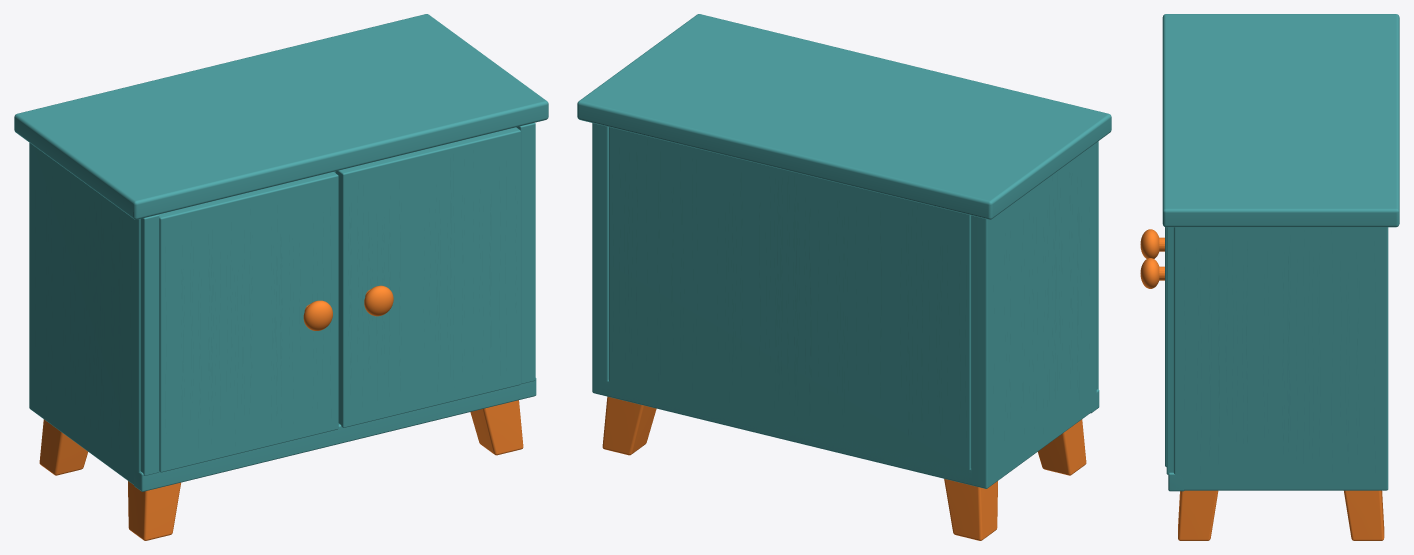
3 views of the same model, side by side, from view 1: azimuth 30°, elevation 25°; view 2: azimuth 150°, elevation 25°; view 3: azimuth 270°, elevation 25° (orthographic). The views are drawn at different scales.
Parts seen in each view (by area): view 1: Overhanging top slab, Right door, Left door, Left solid side, Subtle mesh wood grain, Front lower rail, Left front stile, Right front stile, Left front orange foot, Right front orange foot, Left rear orange foot, Round orange door knob (+1 smaller); view 2: Full teal back panel, Overhanging top slab, Left solid side, Subtle mesh wood grain, Right solid side, Left rear orange foot, Right rear orange foot, Left front orange foot, Bottom structural panel, Left front stile; view 3: Right solid side, Overhanging top slab, Subtle mesh wood grain, Right front stile, Right rear orange foot, Right front orange foot, Round orange door knob.001, Round orange door knob, Right door.
Boxes of the visible parts, x1,y1,x2,y2 form: Overhanging top slab: [14, 14, 548, 219]; Right door: [335, 127, 520, 427]; Left door: [159, 172, 338, 472]; Left solid side: [29, 143, 140, 484]; Subtle mesh wood grain: [35, 150, 517, 448]; Front lower rail: [134, 378, 536, 491]; Left front stile: [140, 214, 159, 475]; Right front stile: [516, 123, 535, 384]; Left front orange foot: [128, 481, 180, 540]; Right front orange foot: [470, 400, 523, 455]; Left rear orange foot: [39, 419, 87, 475]; Round orange door knob: [303, 300, 332, 330]; Full teal back panel: [609, 127, 971, 484]; Overhanging top slab: [577, 14, 1111, 219]; Left solid side: [971, 143, 1096, 488]; Subtle mesh wood grain: [612, 139, 1089, 452]; Right solid side: [592, 123, 608, 396]; Left rear orange foot: [944, 479, 997, 540]; Right rear orange foot: [602, 396, 656, 455]; Left front orange foot: [1038, 419, 1086, 475]; Bottom structural panel: [601, 380, 976, 485]; Left front stile: [1096, 141, 1098, 389]; Right solid side: [1173, 227, 1388, 490]; Overhanging top slab: [1162, 14, 1399, 227]; Subtle mesh wood grain: [1184, 230, 1375, 473]; Right front stile: [1166, 227, 1173, 474]; Right rear orange foot: [1344, 490, 1384, 540]; Right front orange foot: [1178, 490, 1218, 540]; Round orange door knob.001: [1140, 258, 1159, 288]; Round orange door knob: [1140, 229, 1159, 258]; Right door: [1165, 227, 1166, 466].
Bounding box in the file's own units: 1.26 × 1.01 × 0.7.
